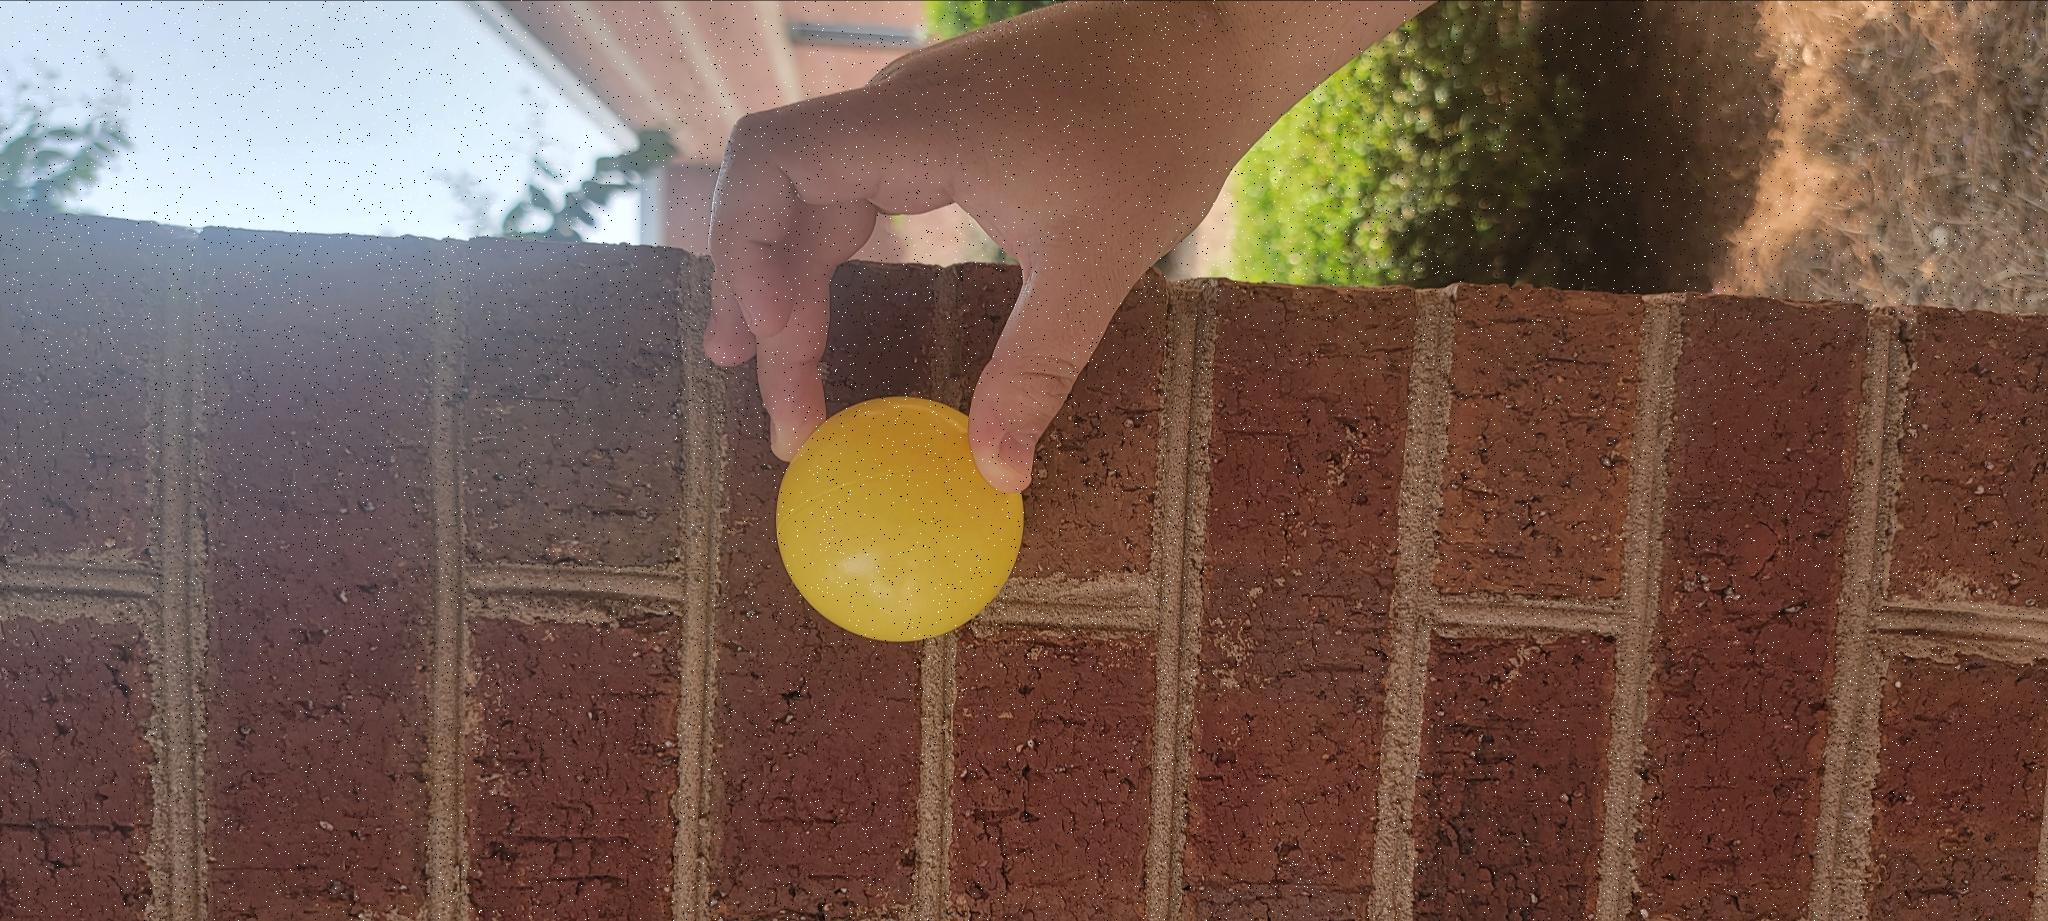Yellow-Ball: (280, 773, 528, 921)
